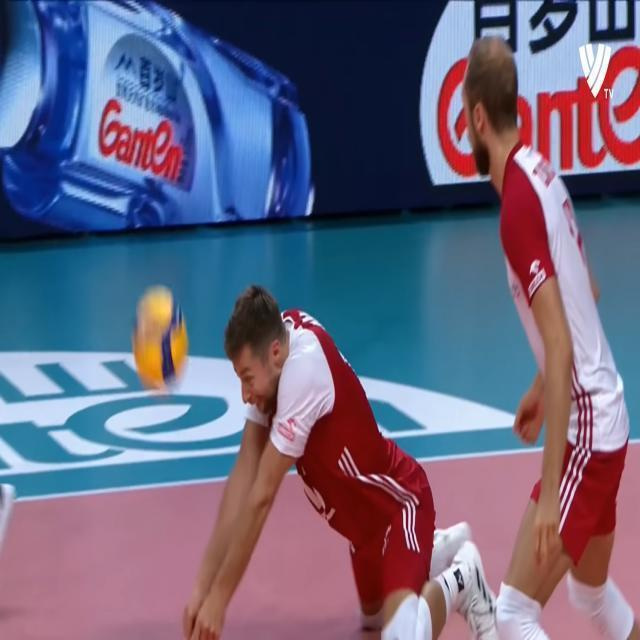volleyball: (132, 284, 187, 392)
